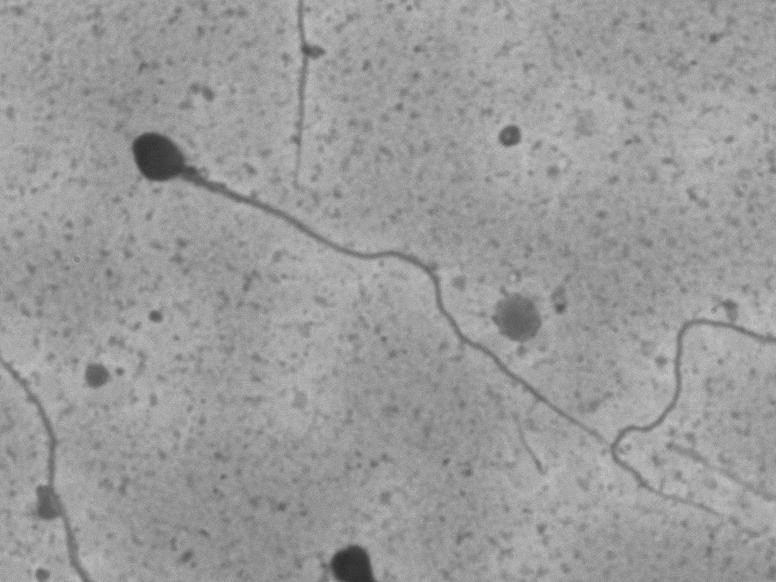Abnormal: (102, 106, 588, 456)
